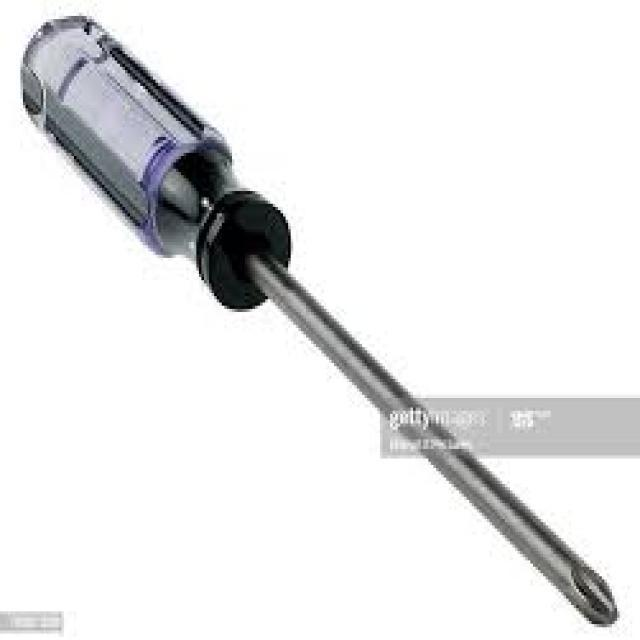screwdriver: (11, 9, 626, 634)
